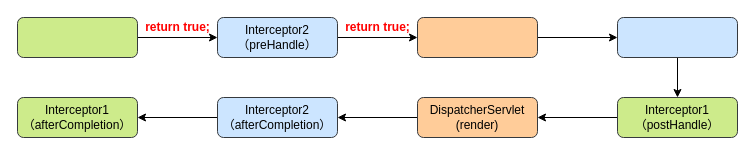
Image size: 755x155. Some labels were removed from this diagram. The shapes that lost their labels are listed below. From the top down, each one's centre as x and y in pixels, then its label:
At pixel 77 37: "Interceptor1 （preHandle）".
At pixel 477 37: "HandlerAdapter （Handle）".
At pixel 677 37: "Interceptor2 （postHandle）".
